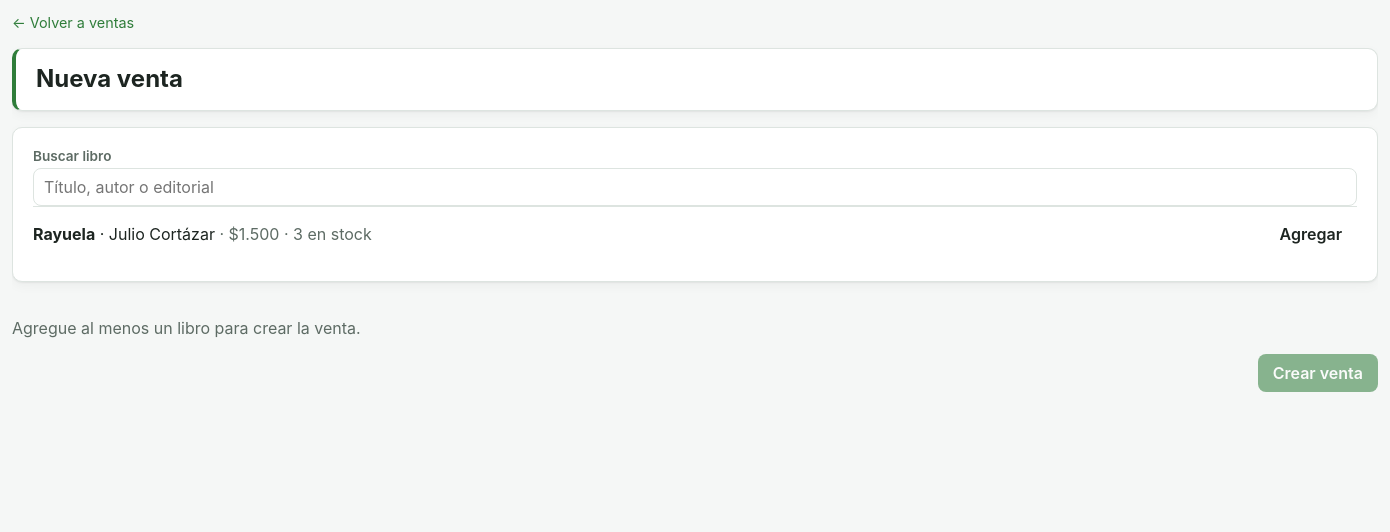
it: SaleCreatePage › searches only available books and caps the quantity at the stock
Click the button with aria-label "Agregar Rayuela". click: (1311, 234)
box: [1265,215,1357,253]
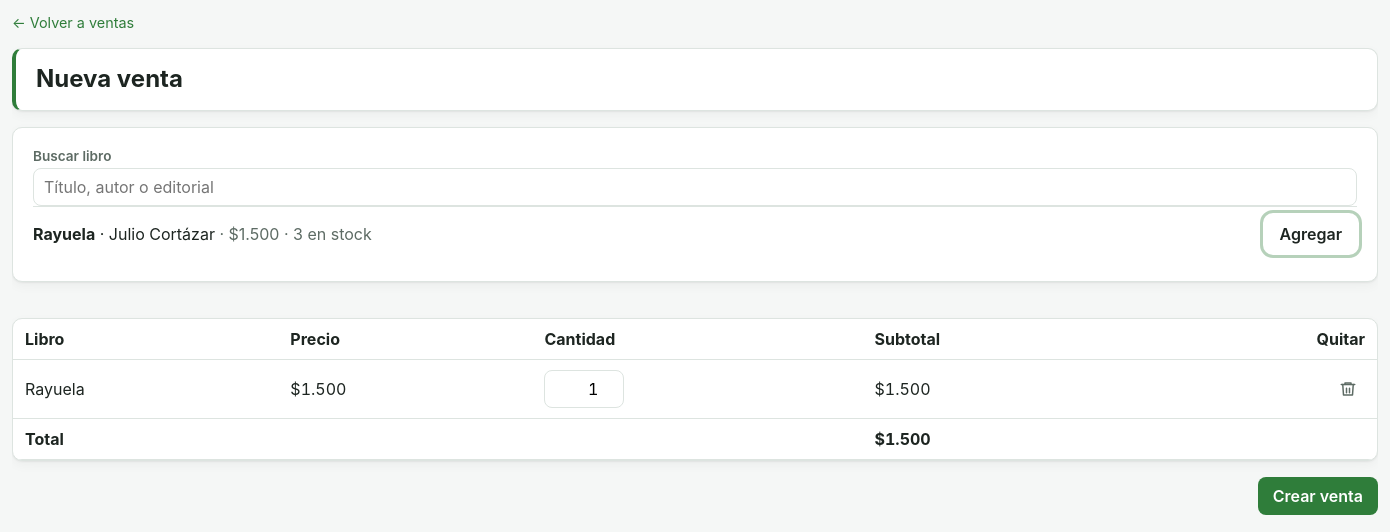
Replace the text in the number field named "Cantidad de Rayuela" with "9". click: (584, 389)
box: [544,370,624,408]
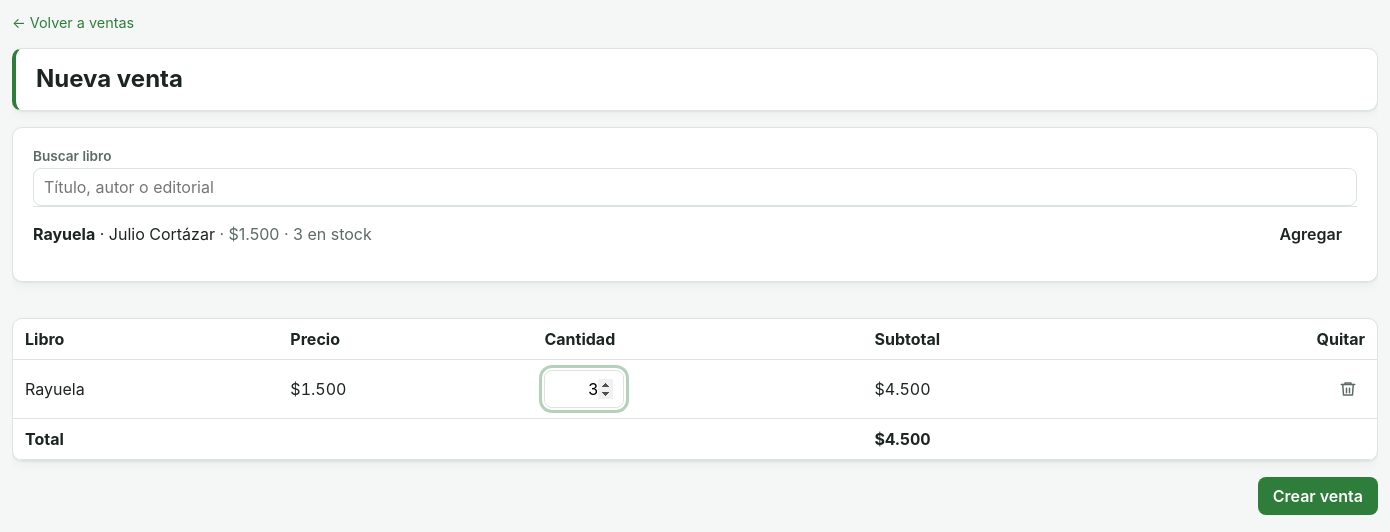
Result: the number field named "Cantidad de Rayuela" holds "3" at [544,370,624,408]
Result: the 1st text "$4.500" is shown at [862,359,1147,418]
